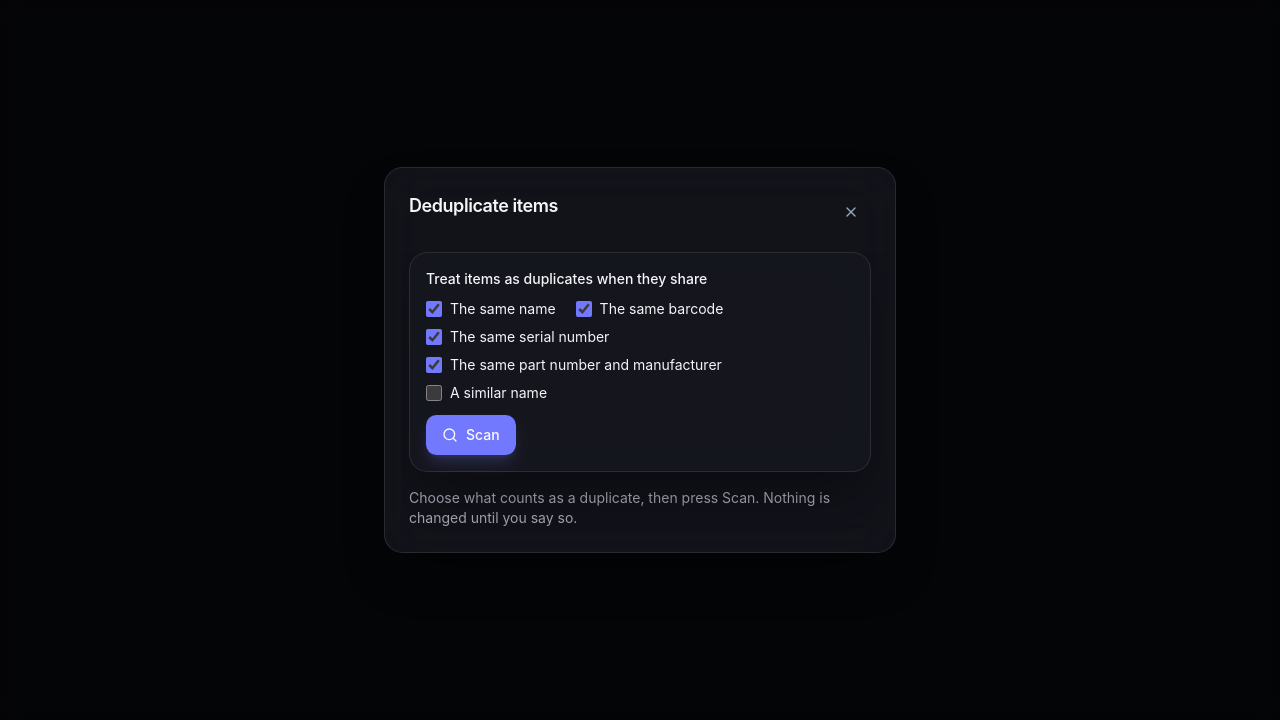
Test: DeduplicateItemsDialog › reports a member that could not be merged rather than swallowing it
Click the button with test id "dedupe-scan" at coordinates (471, 435), box x1=426 y1=415 x2=516 y2=455
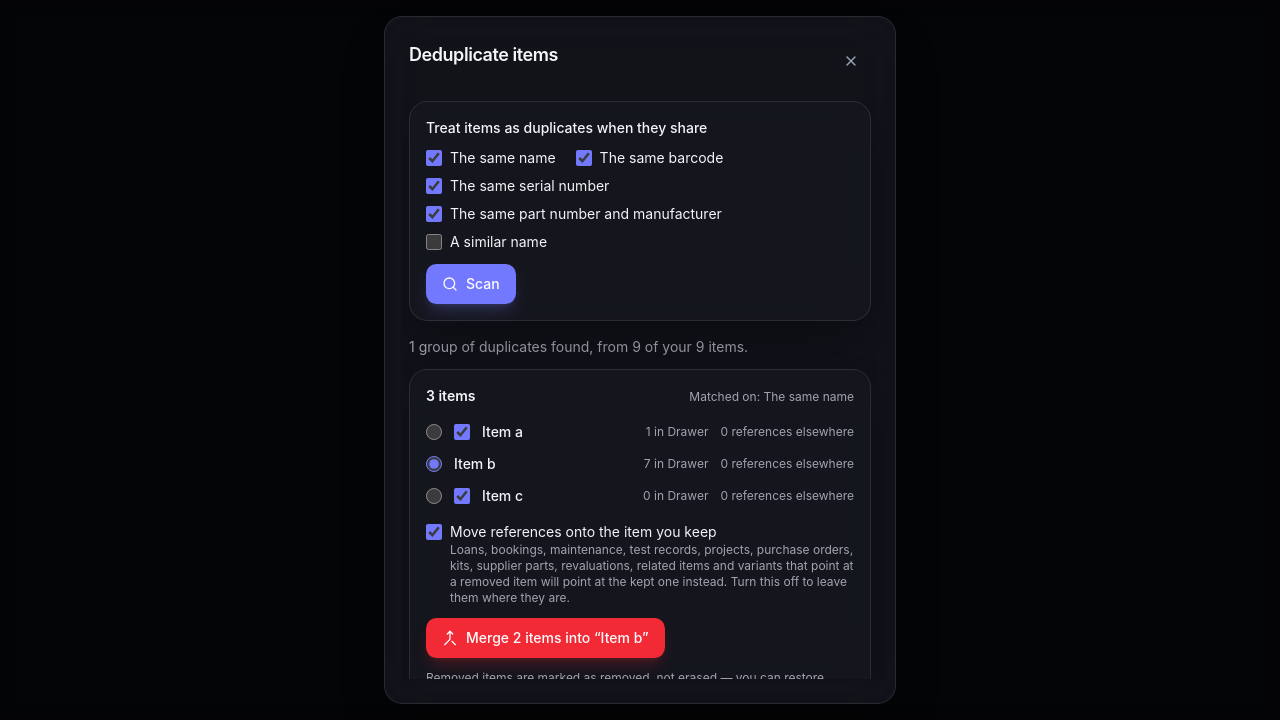
Click the button with test id "dedupe-merge" at coordinates (545, 638), box x1=426 y1=618 x2=665 y2=658
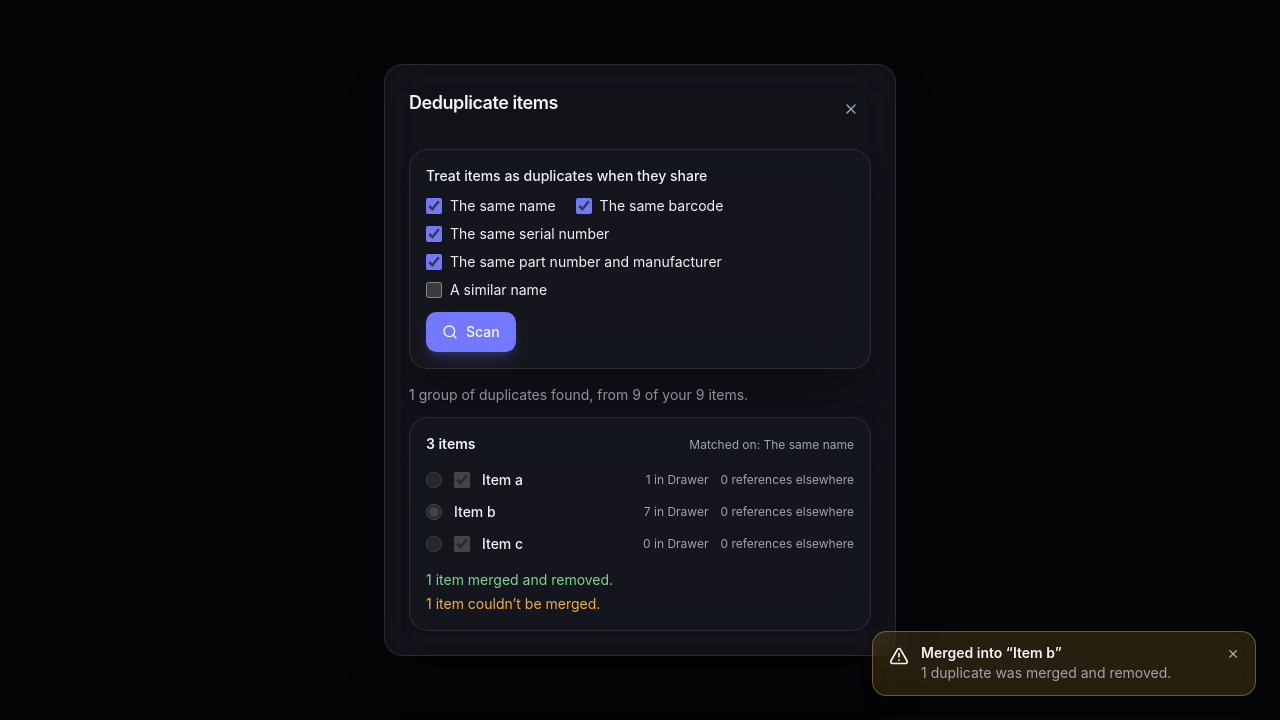
Result: the text "1 item couldn’t be merged." is shown at x1=426 y1=595 x2=600 y2=612
Result: the button with test id "dedupe-merge" is gone
